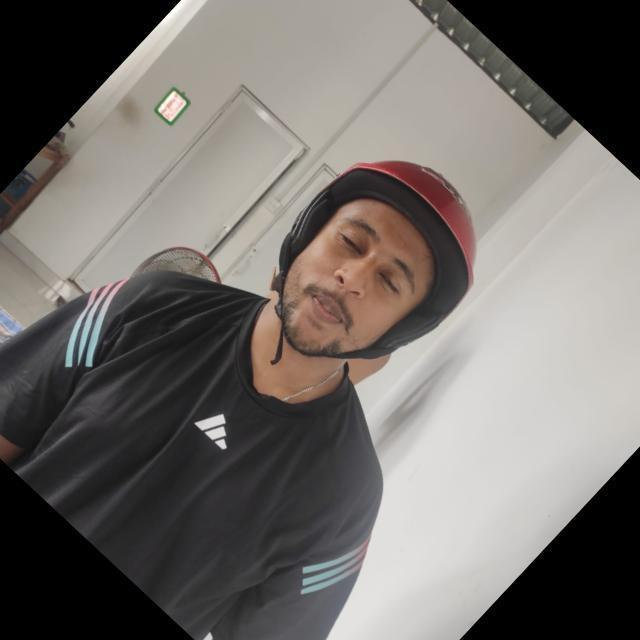with_helmet: (274, 160, 474, 358)
